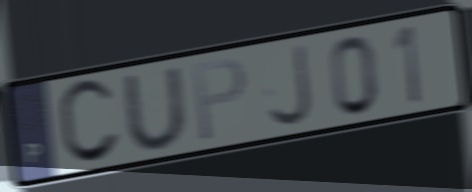0: (326, 31, 382, 120)
1: (391, 21, 425, 108)
C: (54, 75, 124, 168)
J: (265, 40, 316, 130)
P: (190, 54, 250, 146)
U: (119, 63, 192, 153)
